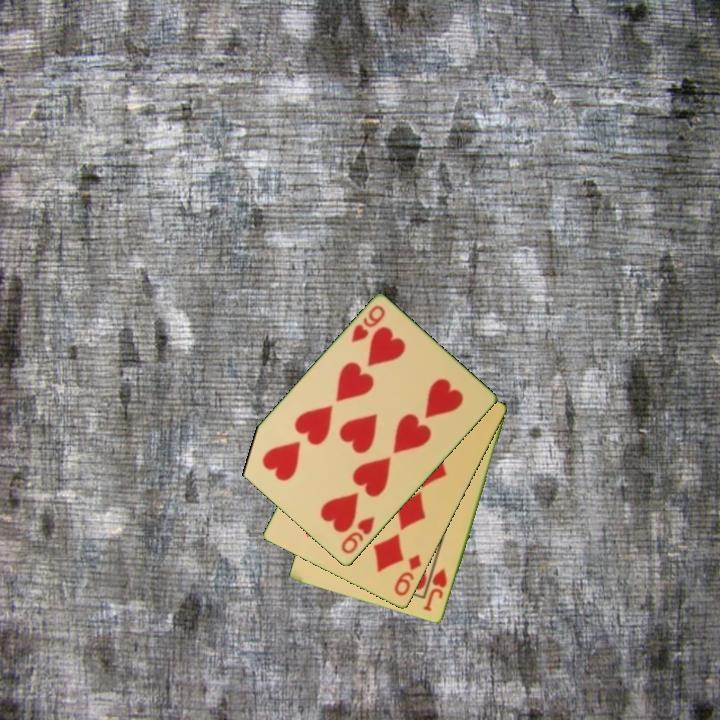9d: (391, 551, 424, 599)
9h: (338, 513, 378, 557), (348, 302, 388, 346)
Jh: (420, 565, 450, 614)
